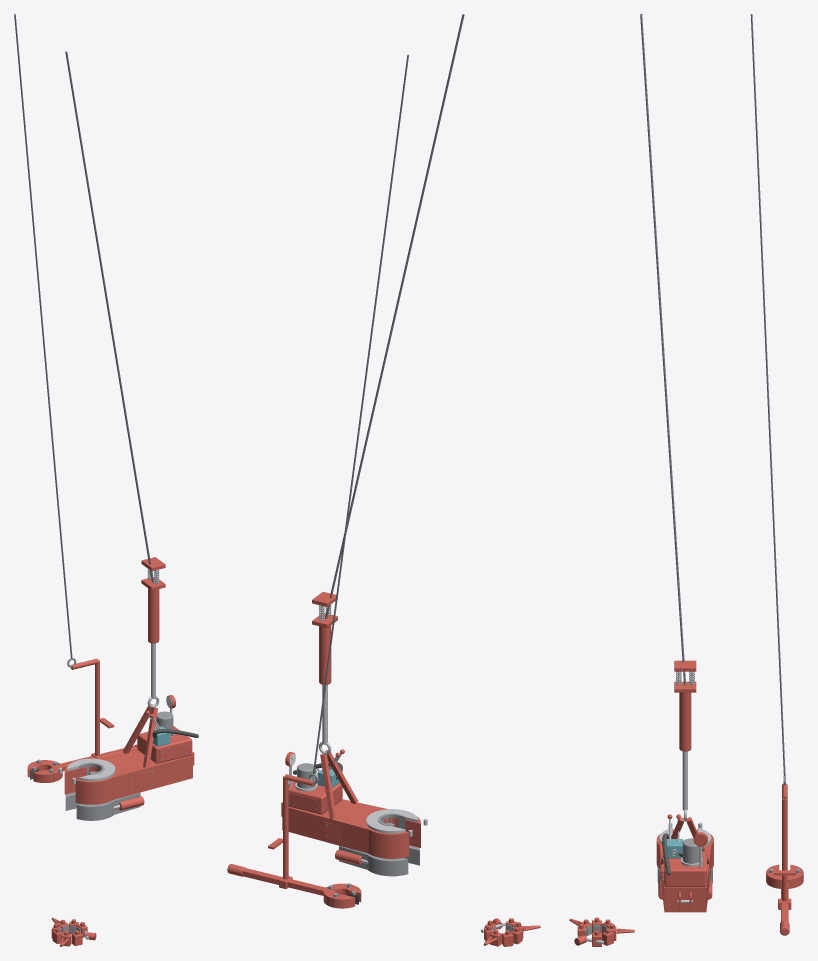
File: sk575_llave.glb
3 renders of one model, left to right at view 1: azimuth 30°, elevation 25°; view 2: azimuth 150°, elevation 25°; view 3: azimuth 270°, elevation 25°, orthographic. The views are drawn at different scales.
Parts seen in each view (by area): view 1: sk575_llave_rojo, sk575_llave_cable, sk575_llave_acero_oscuro, sk575_llave_acero; view 2: sk575_llave_rojo, sk575_llave_cable, sk575_llave_acero_oscuro, sk575_llave_acero; view 3: sk575_llave_rojo, sk575_llave_cable, sk575_llave_acero, sk575_llave_acero_oscuro.
Part boxes in pixels (<box>): sk575_llave_rojo: <box>27,557,194,946</box>; sk575_llave_cable: <box>14,14,153,658</box>; sk575_llave_acero_oscuro: <box>32,569,187,933</box>; sk575_llave_acero: <box>58,570,174,939</box>; sk575_llave_rojo: <box>227,591,540,946</box>; sk575_llave_cable: <box>313,14,464,774</box>; sk575_llave_acero_oscuro: <box>289,604,514,932</box>; sk575_llave_acero: <box>289,605,505,932</box>; sk575_llave_rojo: <box>569,660,803,946</box>; sk575_llave_cable: <box>640,14,785,775</box>; sk575_llave_acero: <box>577,671,711,943</box>; sk575_llave_acero_oscuro: <box>585,671,800,937</box>.
Bounding box in the file's own units: 2.13 × 9.33 × 2.12.
